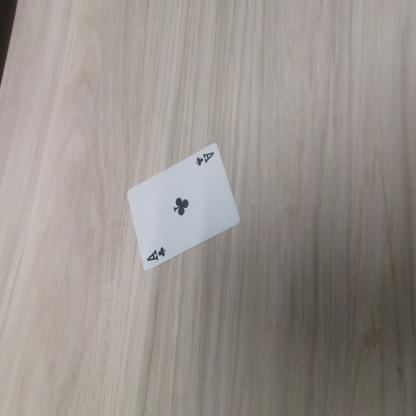AC: (190, 146, 221, 170), (146, 242, 170, 272)
